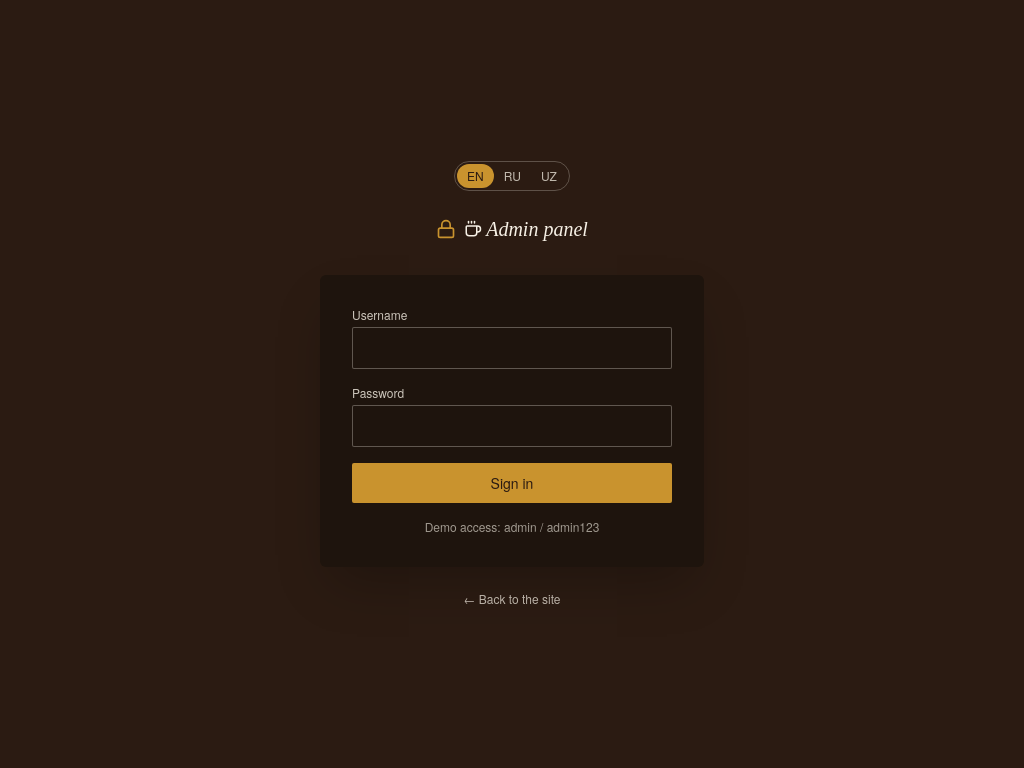
Test: Admin panel › returns to the requested admin page after signing in
This screenshot has width=1024, height=768.
Expected: the heading "Admin panel" is shown, [464,215,588,243]
Type "admin" into the field labelled "Username" at (512, 348), box [352,327,672,369]
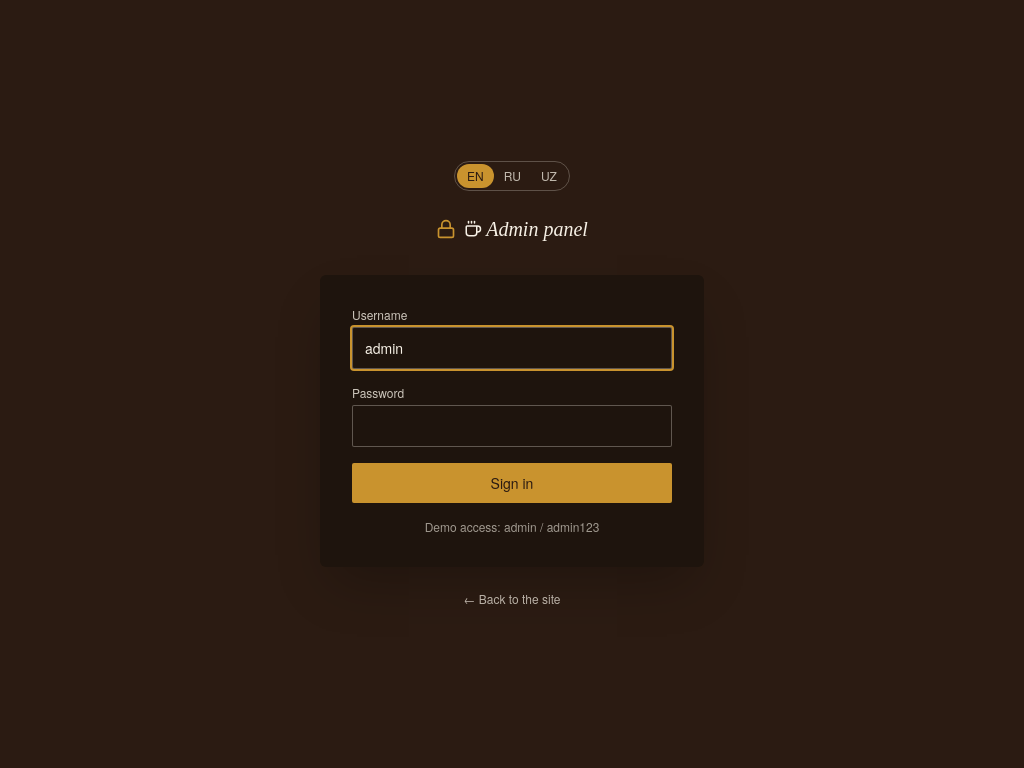
Type "admin123" into the password field labelled "Password" at (512, 426), box [352,405,672,447]
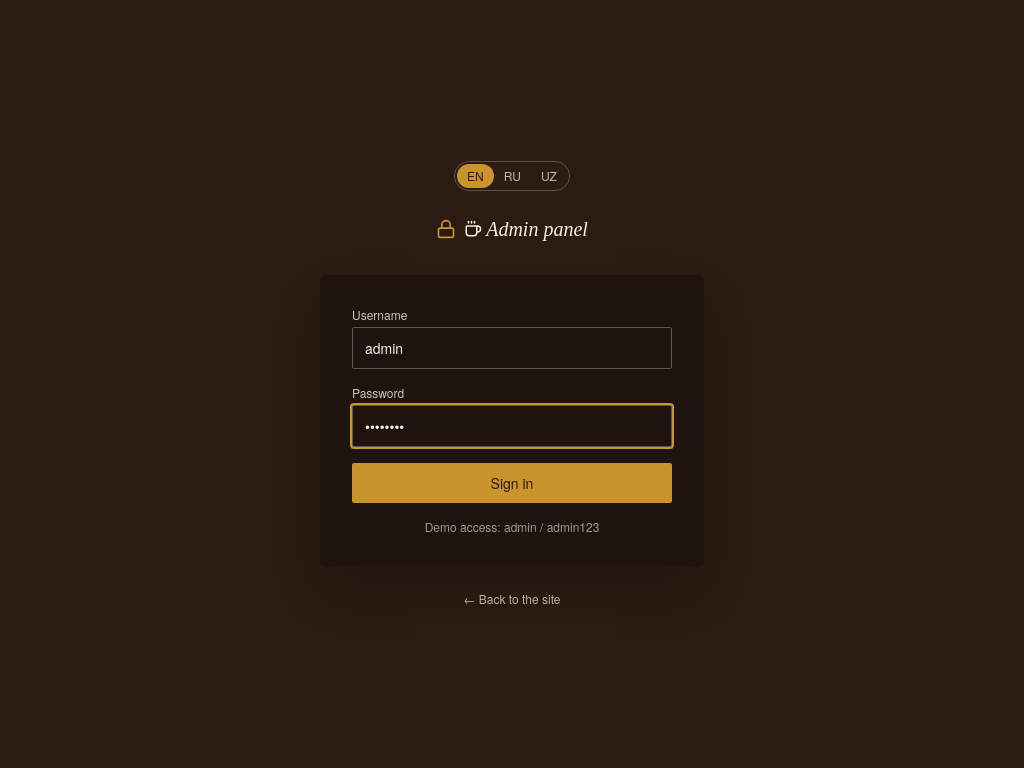
Click the button "Sign in" at (512, 483), box [352,463,672,503]
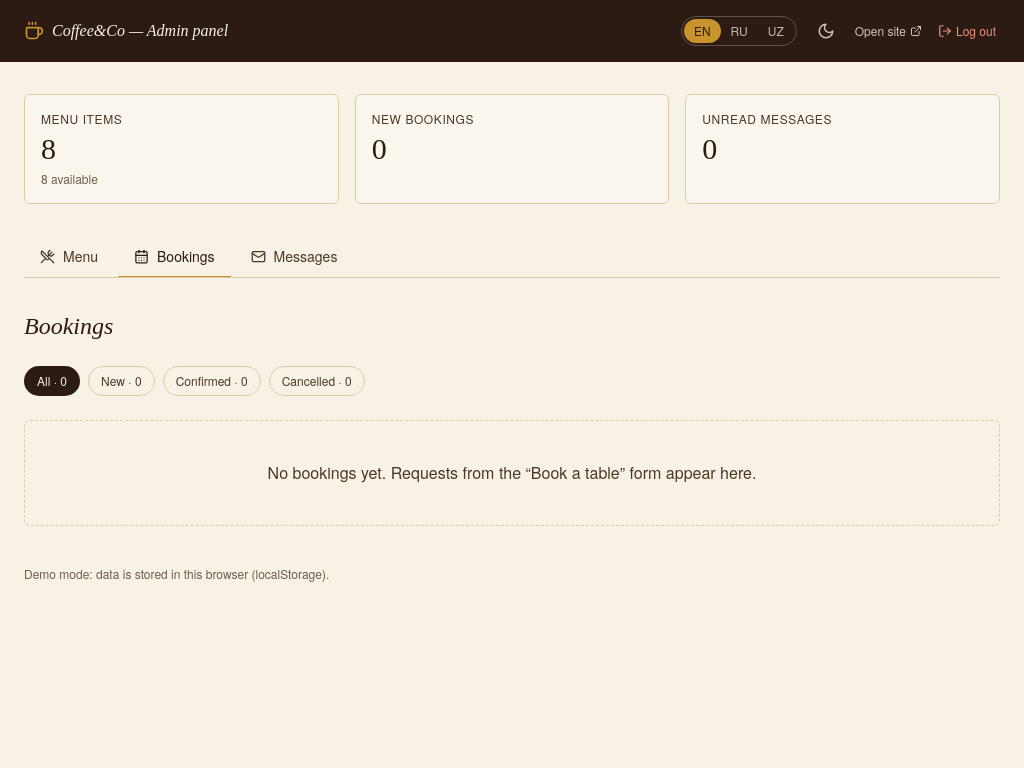
Now the heading "Bookings" is shown, box [24,313,113,339]
